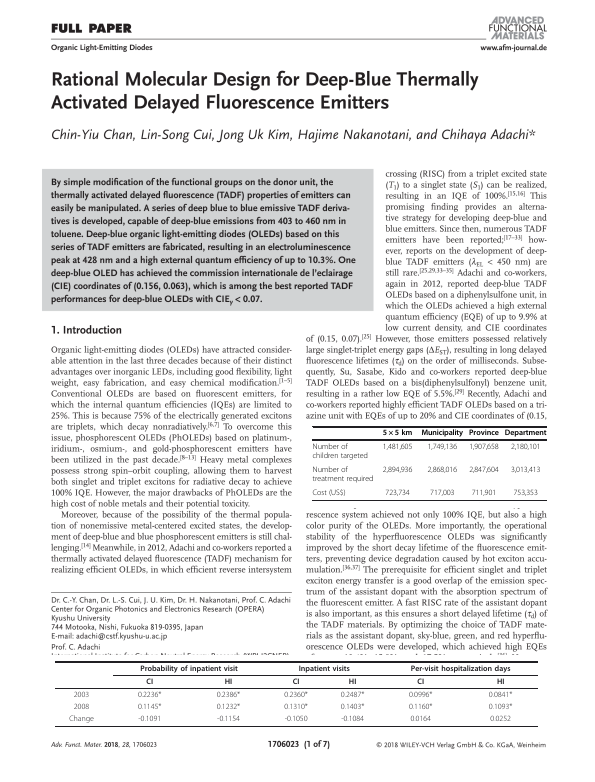borderless: (55, 660, 538, 726), (311, 425, 547, 500)
cell: (312, 465, 374, 483), (312, 442, 369, 460), (410, 664, 511, 673), (139, 664, 239, 673), (298, 664, 351, 673), (420, 429, 464, 438), (504, 429, 547, 438), (426, 442, 458, 452), (468, 442, 500, 452), (312, 488, 347, 497), (382, 442, 413, 452), (510, 442, 541, 452), (468, 429, 500, 438), (426, 465, 458, 474), (468, 465, 500, 474), (382, 429, 413, 438), (382, 465, 413, 474), (510, 465, 541, 474), (68, 714, 95, 724), (283, 690, 309, 700), (283, 702, 309, 712), (137, 690, 162, 700), (216, 690, 241, 700), (340, 690, 365, 700), (408, 690, 433, 700), (488, 690, 513, 700), (137, 702, 162, 712), (216, 702, 241, 712), (340, 702, 365, 712), (408, 702, 433, 712), (488, 702, 513, 712), (137, 714, 162, 724), (216, 714, 241, 724), (340, 714, 365, 724), (384, 488, 411, 497), (512, 488, 539, 497), (284, 714, 308, 724), (429, 488, 455, 497), (471, 488, 497, 497), (409, 714, 432, 724), (489, 714, 512, 724), (73, 690, 90, 700), (73, 702, 90, 712), (145, 677, 154, 687), (224, 677, 233, 687), (348, 677, 357, 687), (416, 677, 425, 687), (496, 677, 505, 687), (292, 677, 300, 687)
